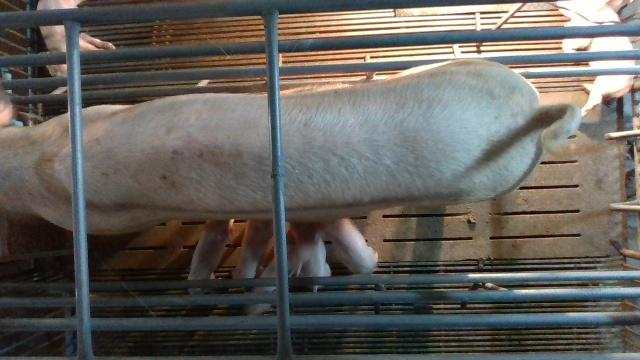piglet: (556, 0, 635, 116), (37, 1, 116, 77), (245, 244, 311, 315), (329, 217, 378, 274), (187, 219, 231, 279), (233, 218, 272, 279), (302, 231, 331, 293)
sow-stand-feed: (0, 58, 582, 255)
